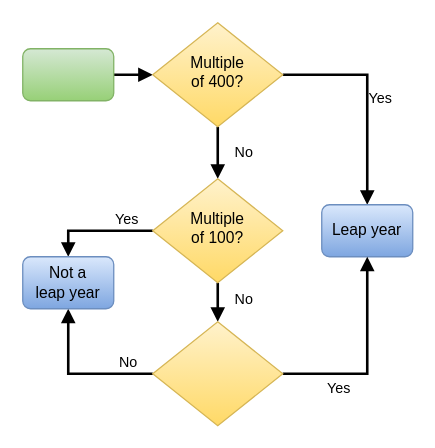
Image size: 435x448. Some labels were removed from this diagram. The centre of each missing label's shape, as x and y in pixels:
"Multiple of 4?" belongs at pixel 217 373.
"Year" belongs at pixel 67 74.
